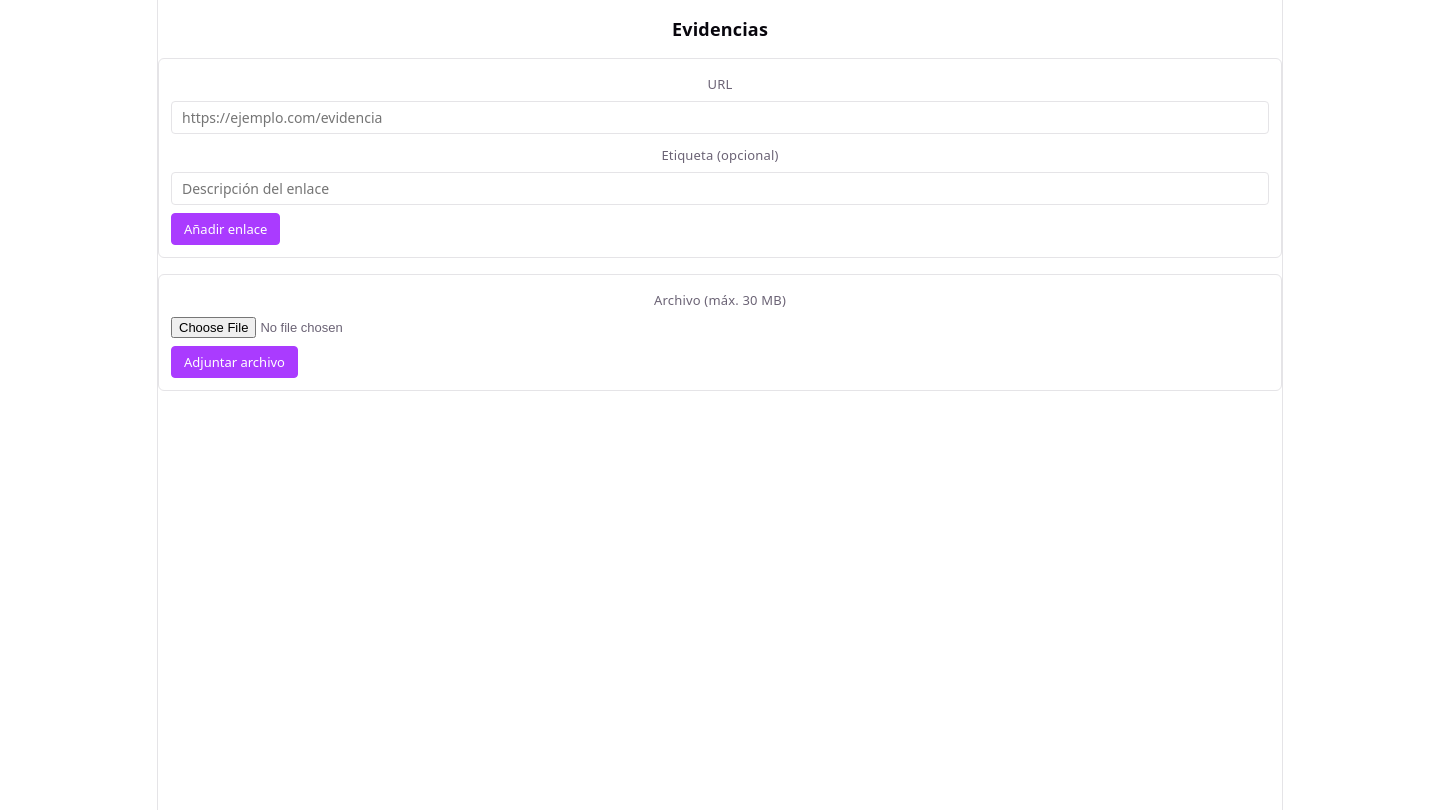
Test: EvidenceSection › clears URL error when user starts typing
In the field labelled "URL": (720, 118) x1=171 y1=101 x2=1269 y2=134, type "bad"
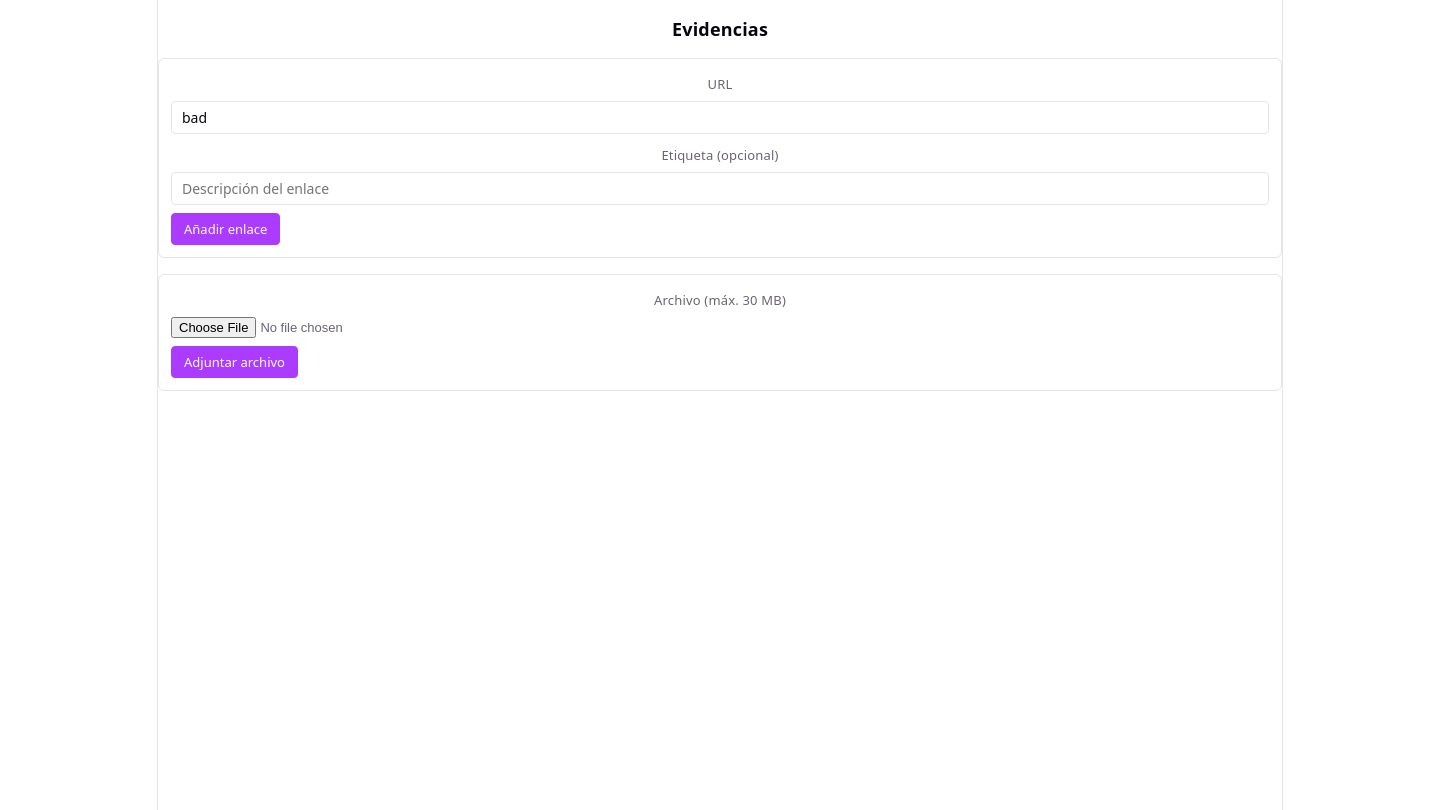
Click the button "Añadir enlace": (226, 229) x1=171 y1=213 x2=280 y2=245
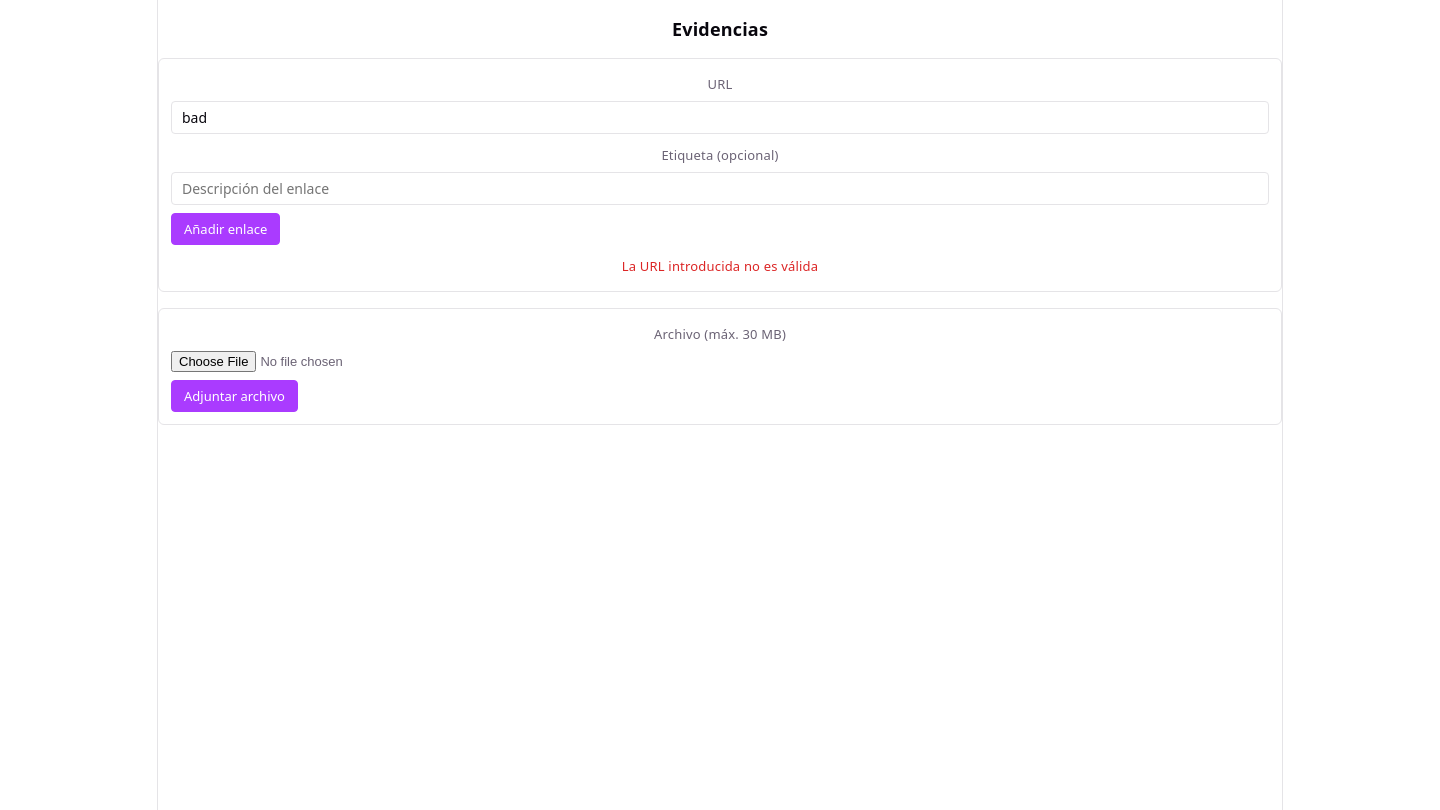
Expected: the text "La URL introducida no es válida" is shown, x1=622 y1=257 x2=818 y2=275
Replace the text in the field labelled "URL" with "https://": (720, 118) x1=171 y1=101 x2=1269 y2=134
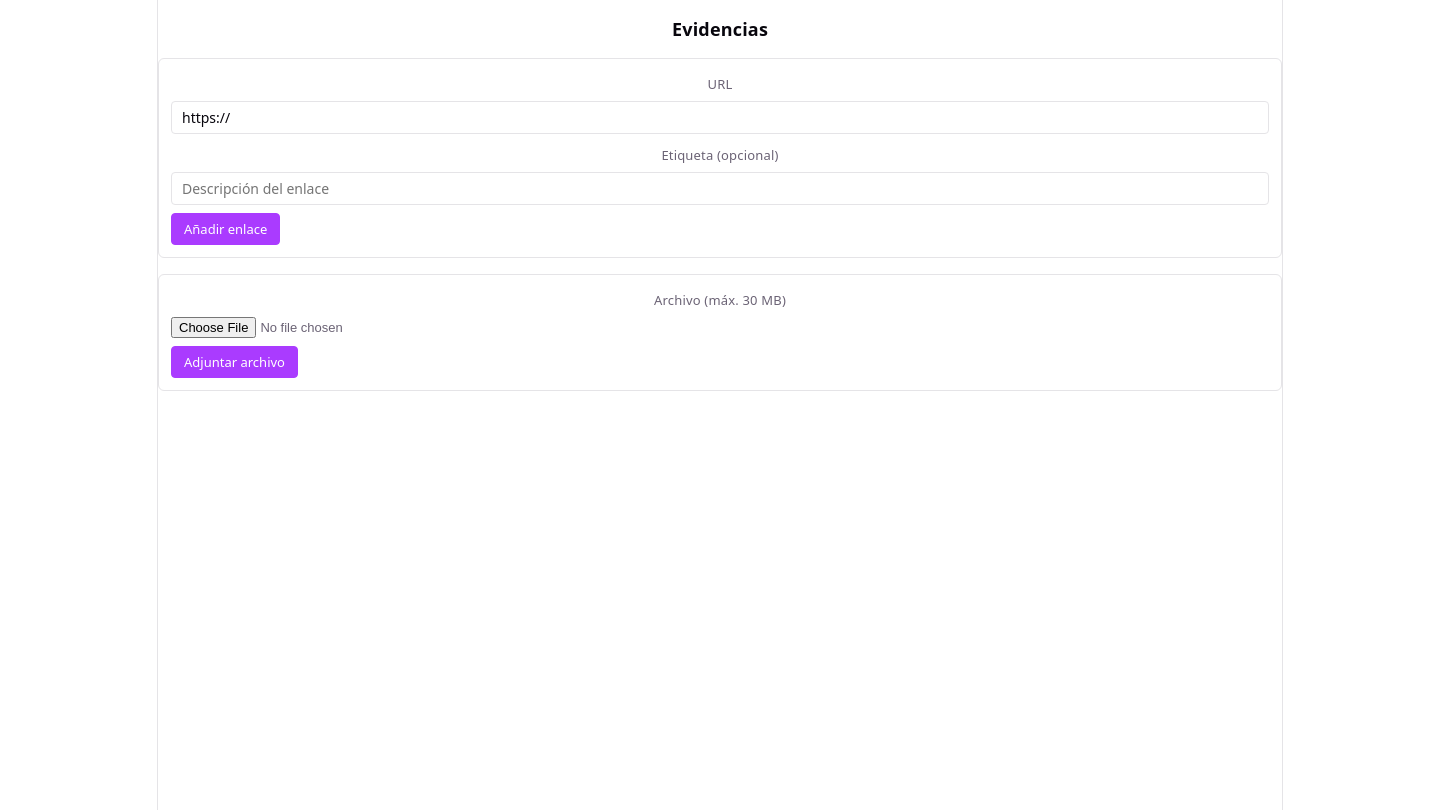
Expected: the text "La URL introducida no es válida" is gone
